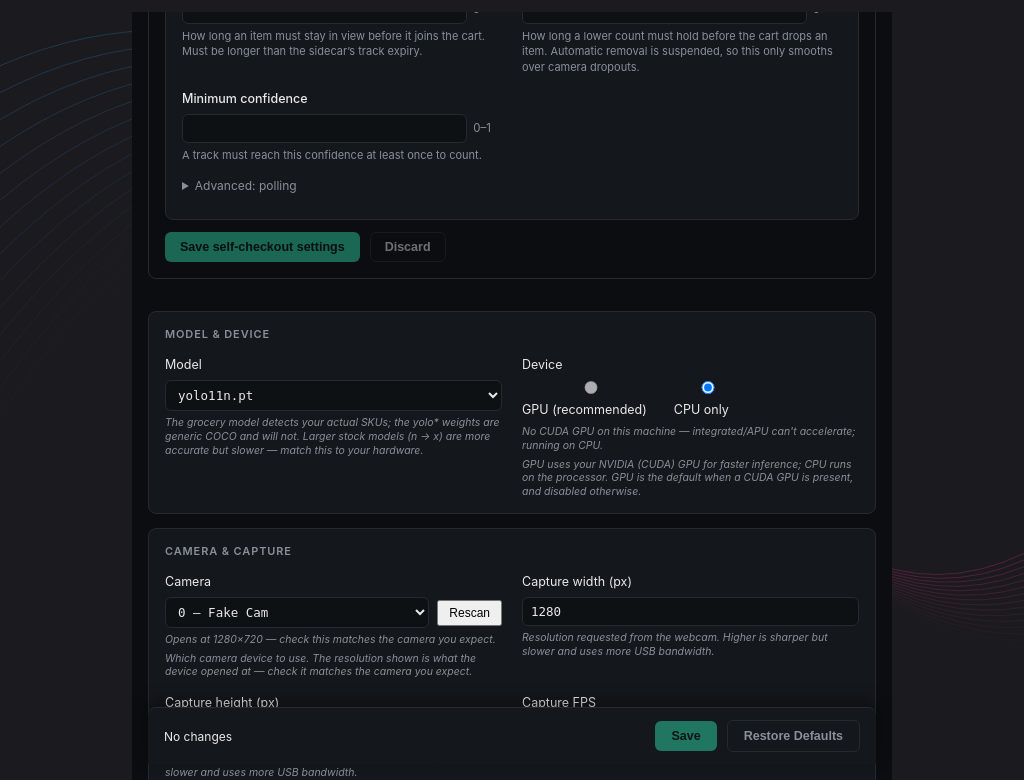
Test: AdminPanel › counts unsaved changes in the action bar
(page scrolled)
Expected: the text with test id "pending-count" reads "No changes", [164, 728, 232, 743]
Select "yolo11s.pt" in the dropdown labelled "Model" at (334, 396), box [165, 380, 502, 411]
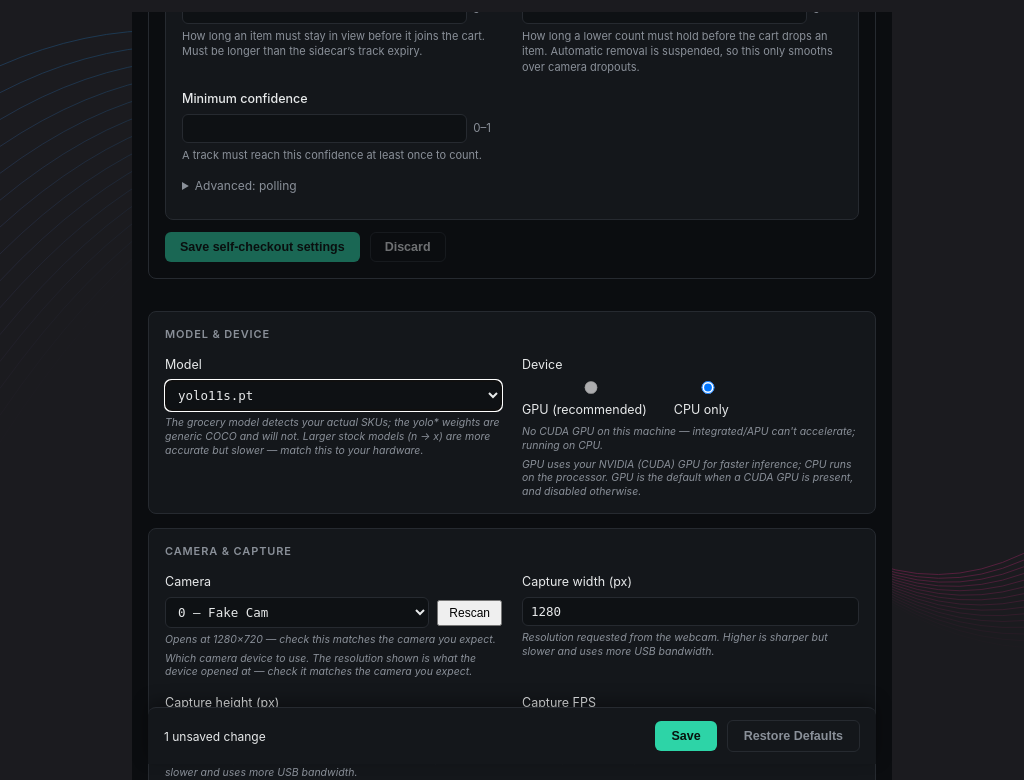
Expected: the text with test id "pending-count" reads "1 unsaved change", [164, 728, 266, 743]
